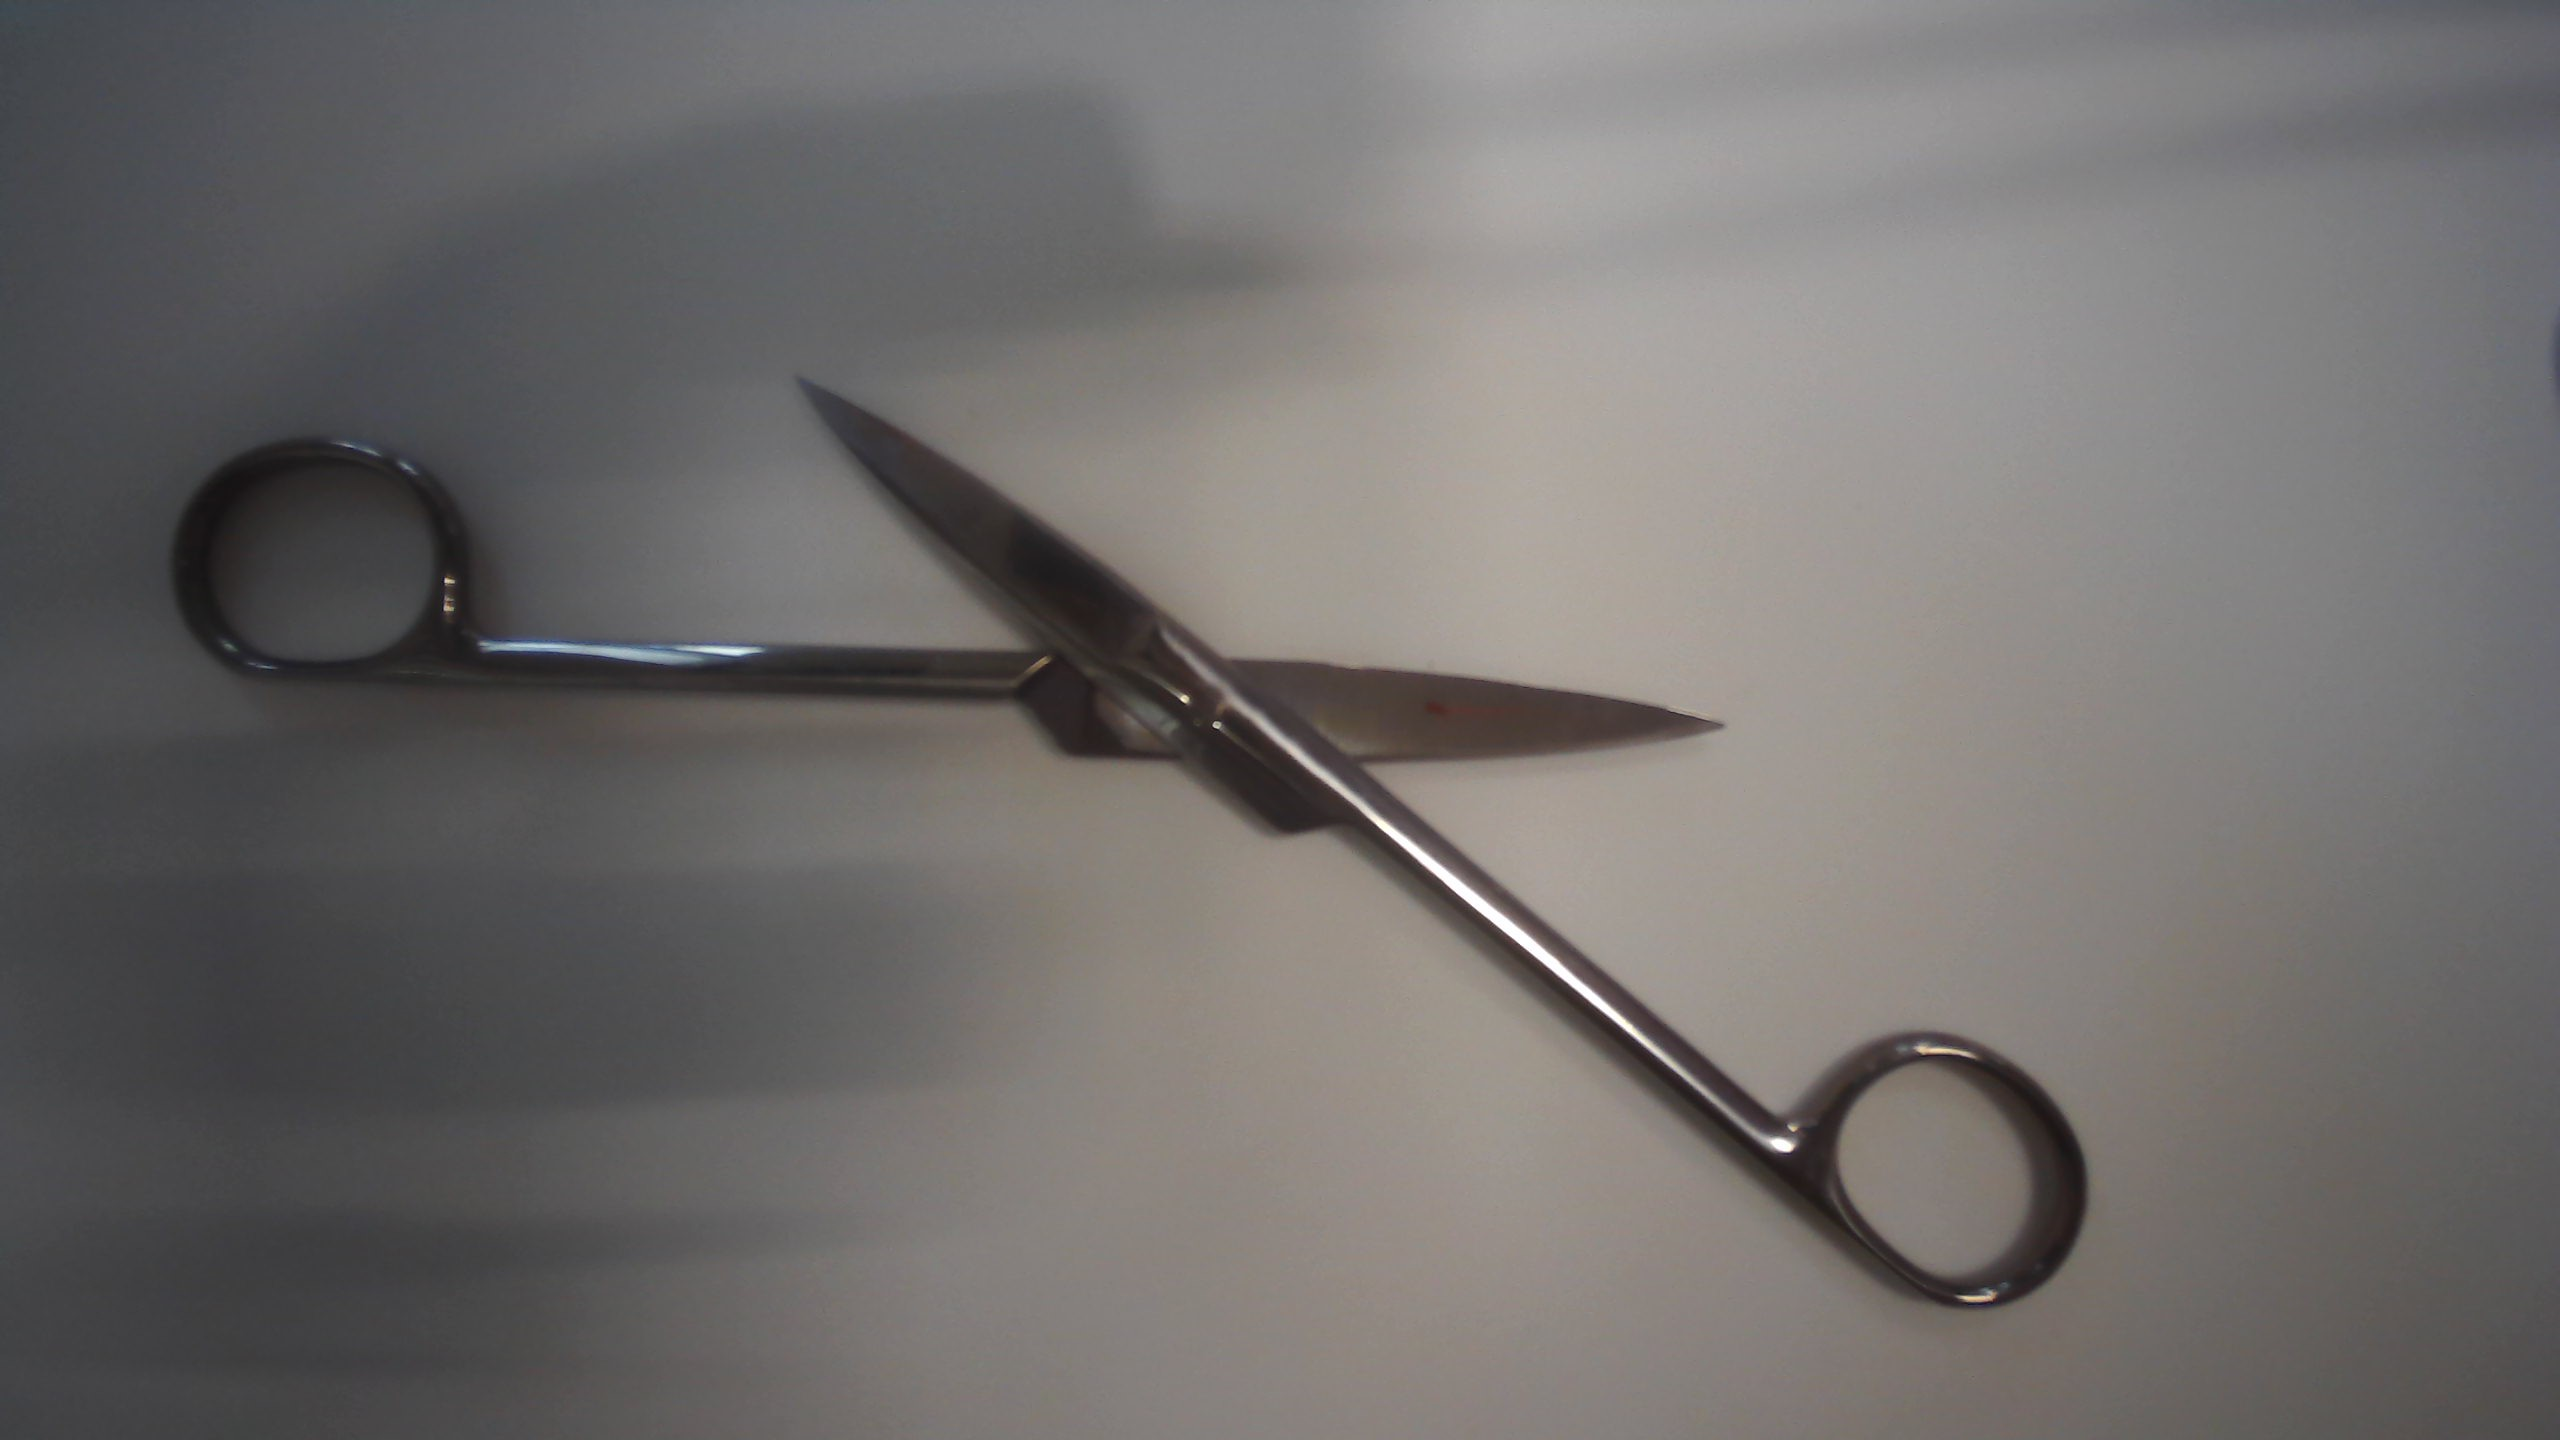Stain: (1373, 680, 1545, 747)
